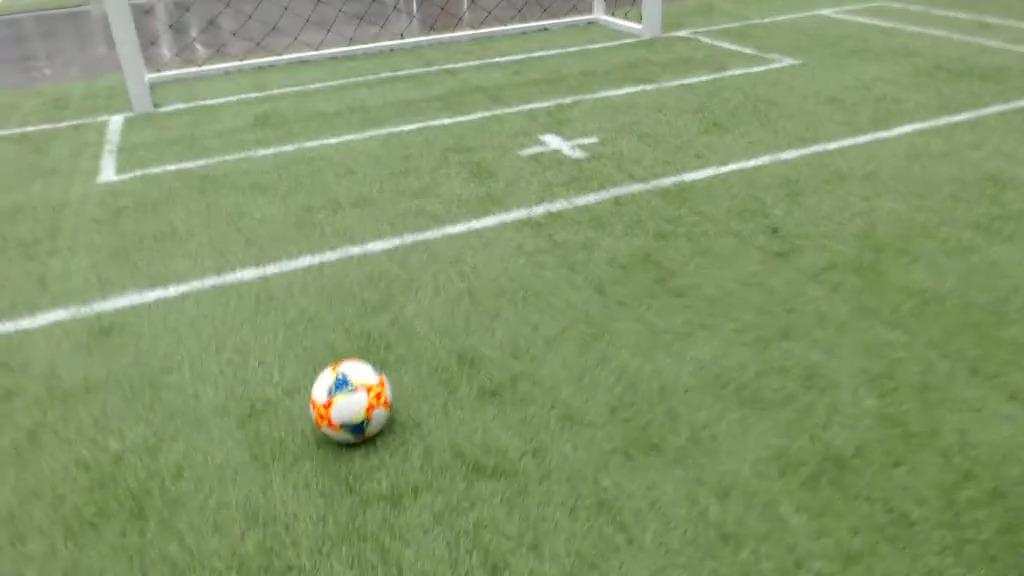ball: (295, 354, 400, 456)
